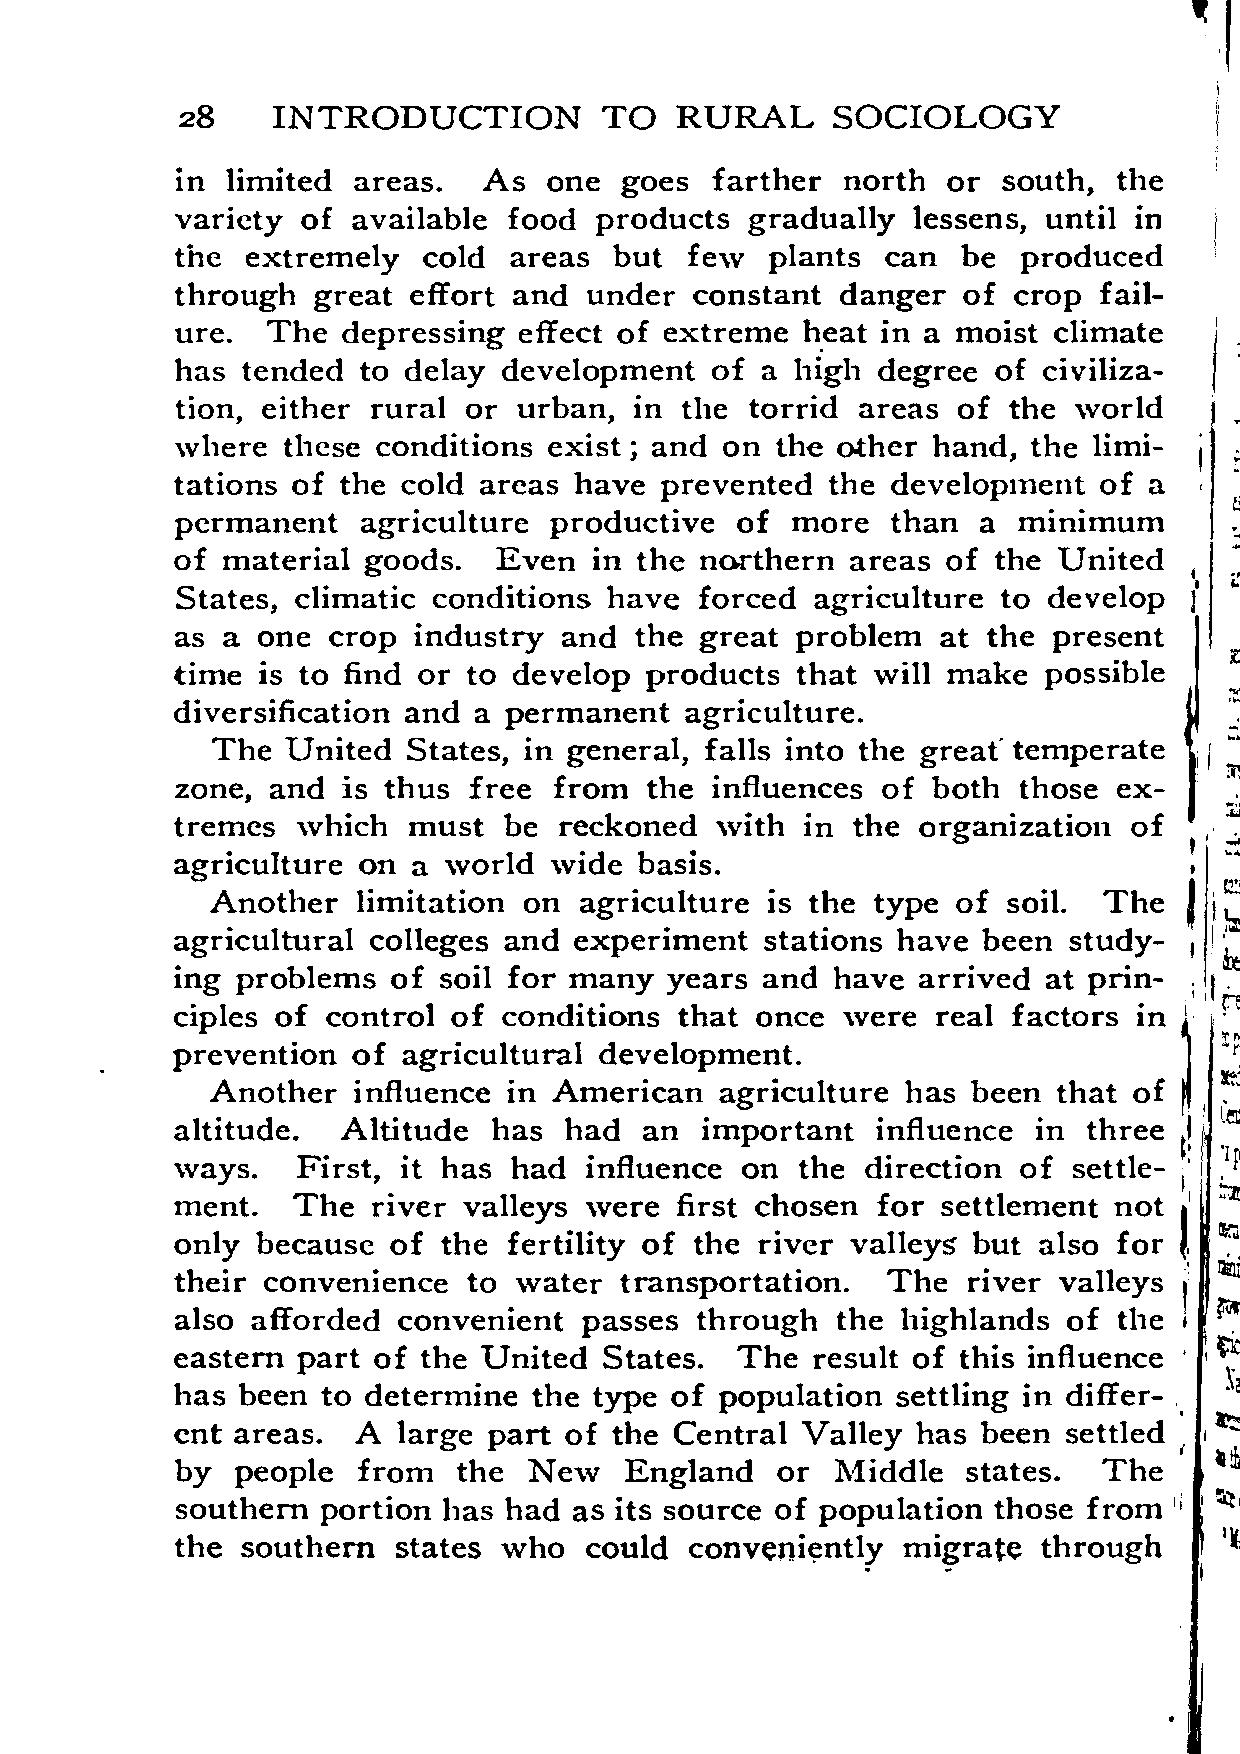content: (169, 160, 1172, 1567)
content_chapter: (266, 99, 1062, 132)
content_pagenumber: (169, 98, 215, 136)
